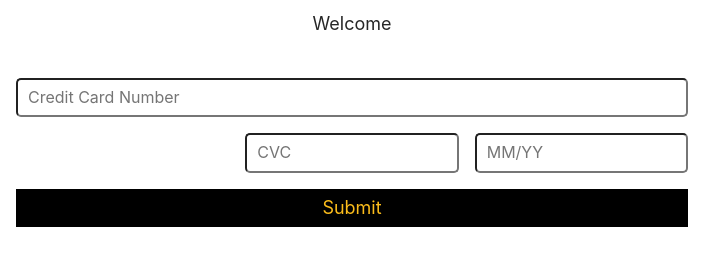
it: <RegistionForm /> Component › should show related error message for any invaild input field when submitting
Step 1. Type "001" into the field with test id "test-creditcard" → (352, 98), box [16, 78, 688, 117]
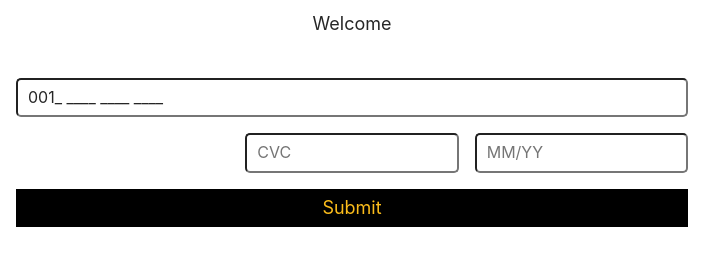
Step 2. Type "111" into the field with test id "test-cvcnumber" → (352, 153), box [245, 133, 459, 172]
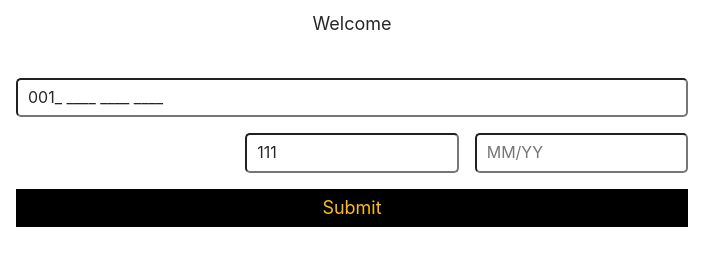
Step 3. Type "1122" into the field with test id "test-expiredate" → (581, 153), box [475, 133, 688, 172]
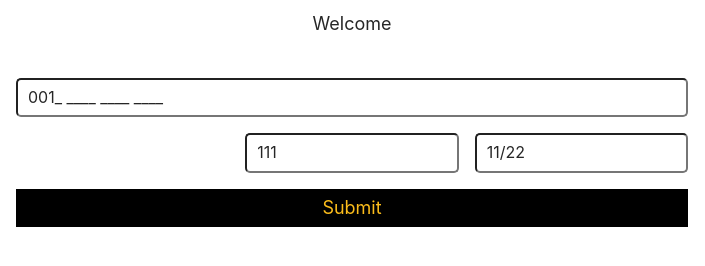
Step 4. Click the button "Submit" → click(352, 208), box [16, 189, 688, 227]
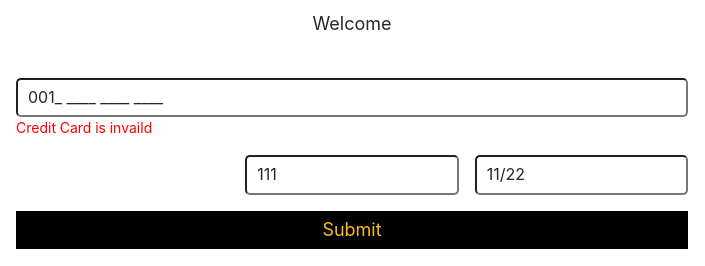
Now the text "Credit Card is invaild" is shown, box [16, 119, 152, 136]
